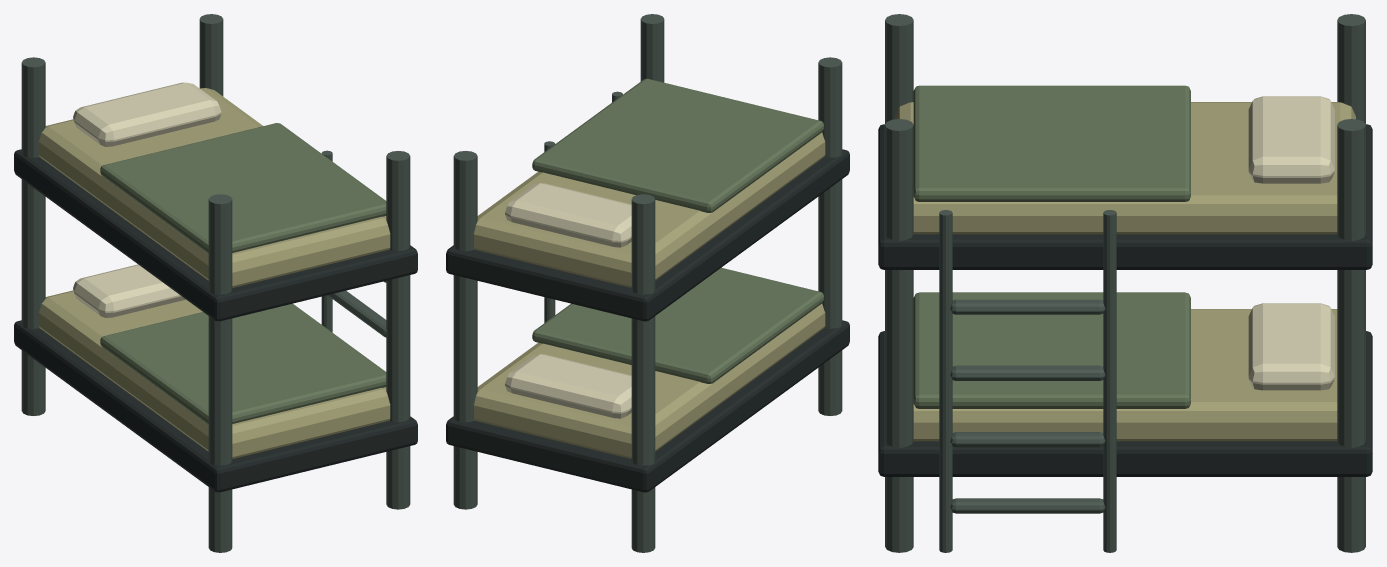
File: bunk.glb
3 renders of one model, left to right at view 1: azimuth 30°, elevation 25°; view 2: azimuth 150°, elevation 25°; view 3: azimuth 270°, elevation 25°, orthographic. The views are drawn at different scales.
Visible parts, largest first — view 1: folded_blanket.001, folded_blanket, mattress.001, mattress, steel_frame, steel_frame.001, bedpost, bedpost.002, bedpost.001, pillow.001, pillow, bedpost.003 (+1 smaller); view 2: folded_blanket.001, folded_blanket, mattress.001, mattress, steel_frame, steel_frame.001, bedpost.001, bedpost.003, bedpost, pillow, pillow.001, bedpost.002; view 3: folded_blanket.001, folded_blanket, mattress.001, mattress, steel_frame.001, steel_frame, bedpost.002, bedpost.003, pillow, pillow.001, ladder_pole.001, ladder_pole (+6 smaller).
Boxes of the visible parts, x1,y1,x2,y2 form: folded_blanket.001: (100,123,386,253); folded_blanket: (100,303,386,424); mattress.001: (38,88,390,287); mattress: (38,290,390,458); steel_frame: (14,320,417,492); steel_frame.001: (14,149,417,321); bedpost: (208,194,232,552); bedpost.002: (386,151,410,509); bedpost.001: (21,57,45,415); pillow.001: (73,82,221,146); pillow: (73,264,185,317); bedpost.003: (199,14,223,96); folded_blanket.001: (532,78,823,212); folded_blanket: (532,267,823,383); mattress.001: (473,132,825,287); mattress: (473,303,825,458); steel_frame: (446,320,849,492); steel_frame.001: (446,149,849,321); bedpost.001: (631,194,655,552); bedpost.003: (453,151,477,509); bedpost: (818,57,842,415); pillow: (505,354,631,418); pillow.001: (505,183,631,247); bedpost.002: (640,14,664,82); folded_blanket.001: (913,85,1190,201); folded_blanket: (913,292,1190,408); mattress.001: (895,102,1355,234); mattress: (913,309,1337,441); steel_frame.001: (878,124,1372,269); steel_frame: (878,331,1372,476); bedpost.002: (885,119,913,552); bedpost.003: (1337,119,1365,552); pillow: (1248,303,1334,390); pillow.001: (1248,96,1334,183); ladder_pole.001: (1103,210,1116,552); ladder_pole: (939,210,952,552).
Size of the model in its own units: 1.35 by 2.1 by 2.23.
